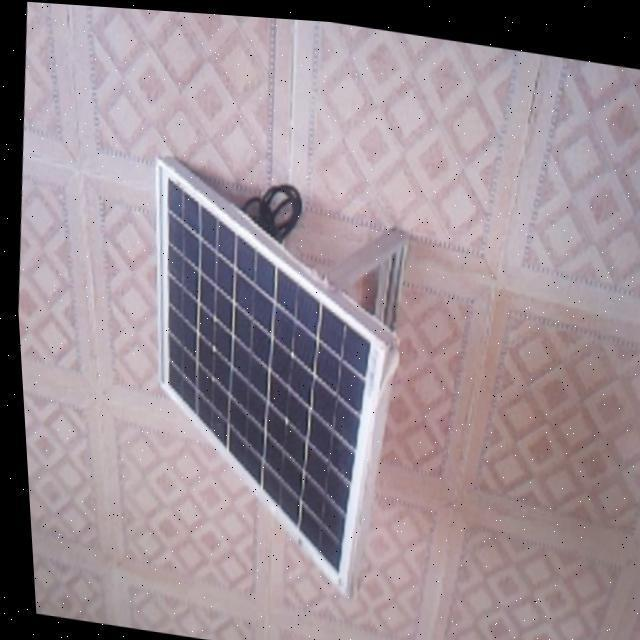Normal Solar Panel: (118, 153, 404, 594)
